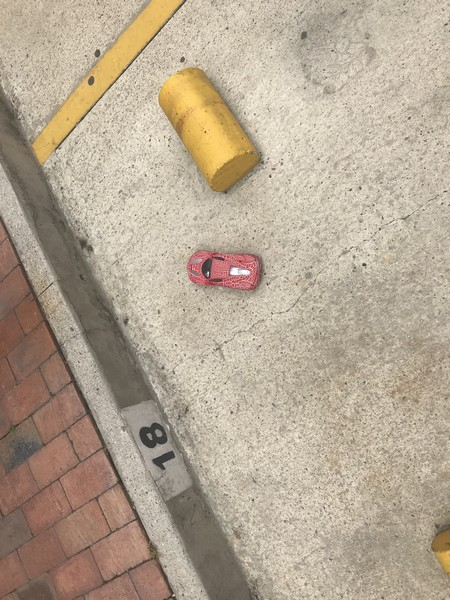RC: (186, 247, 264, 294)
